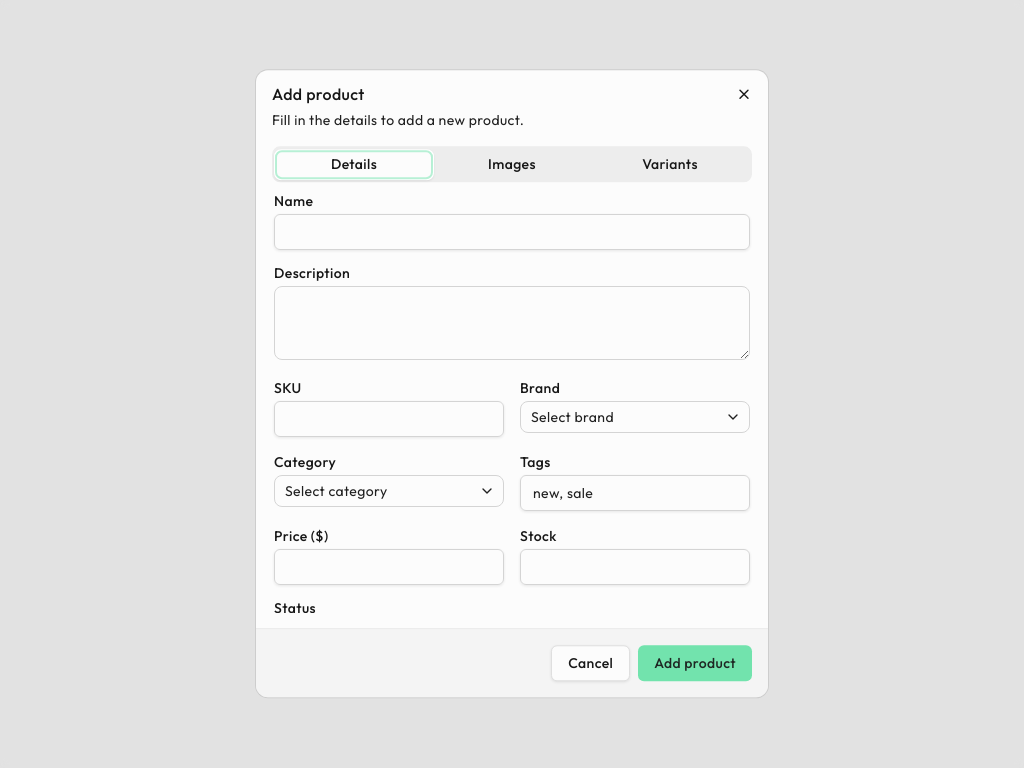
Test: ProductFormDialog › shows every required-field message when submitted empty
The image size is (1024, 768).
Click the button "Add product" at (695, 664), box [638,646,752,682]
(page scrolled)
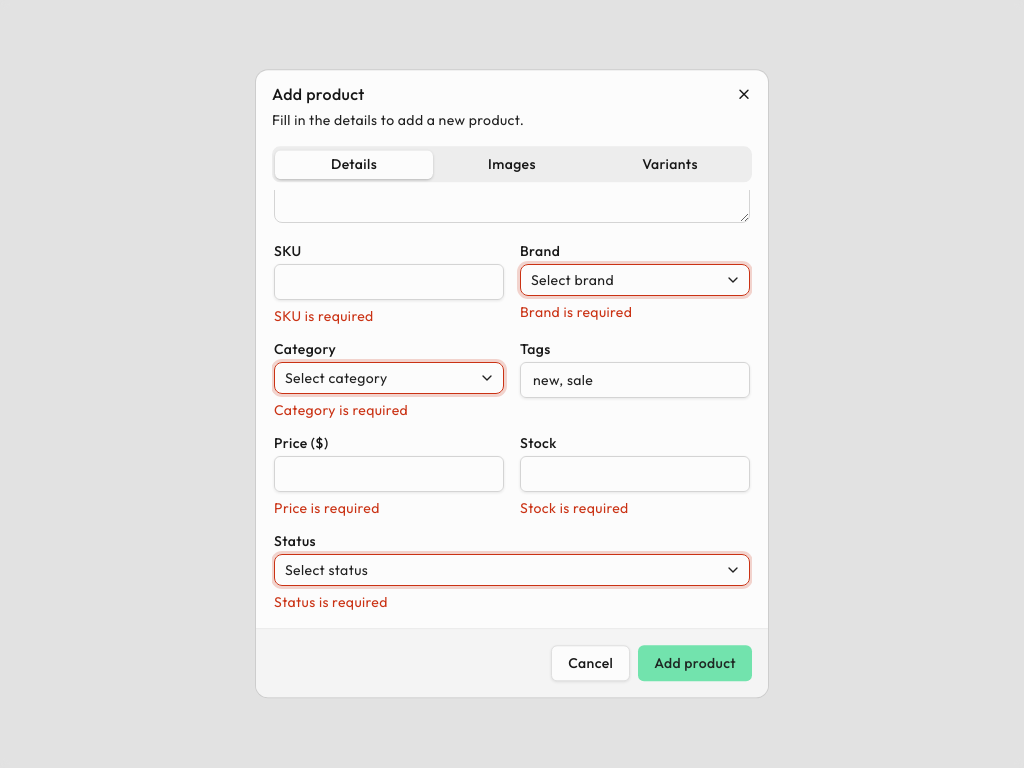
Now the text "SKU is required" is shown, box [274,307,374,325]
Now the text "Category is required" is shown, box [274,401,408,419]
Now the text "Price is required" is shown, box [274,499,380,517]
